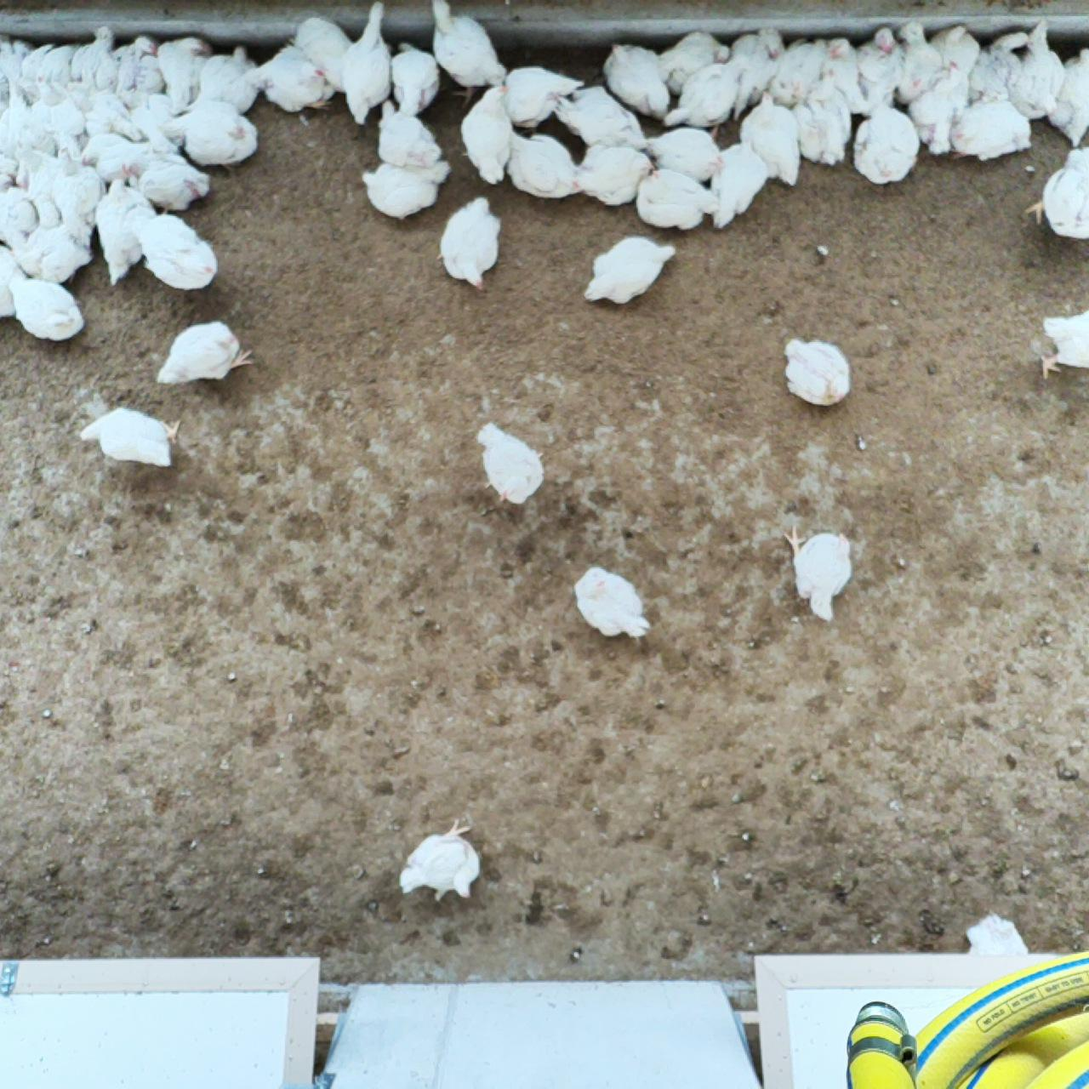chicken: (426, 0, 509, 107), (395, 816, 484, 905), (782, 521, 854, 625), (161, 96, 260, 171), (94, 175, 158, 288), (551, 82, 650, 155), (78, 403, 184, 471), (736, 89, 808, 189), (583, 235, 679, 309), (155, 318, 256, 388), (663, 55, 746, 140), (373, 98, 452, 187), (340, 1, 395, 126), (436, 193, 503, 295), (245, 43, 338, 115), (569, 565, 654, 643), (475, 420, 547, 508), (1023, 147, 1089, 243), (599, 39, 674, 123), (793, 67, 855, 168), (570, 141, 658, 211), (358, 157, 453, 221), (705, 135, 769, 228), (504, 59, 587, 130), (1010, 19, 1066, 124), (49, 146, 106, 248), (460, 83, 515, 188), (946, 97, 1034, 162), (854, 101, 922, 185), (635, 165, 720, 232), (7, 274, 87, 344), (731, 26, 788, 124), (5, 224, 96, 285), (503, 131, 583, 200), (781, 335, 852, 408), (292, 14, 357, 93), (656, 28, 731, 96), (68, 80, 145, 143), (29, 75, 87, 157), (853, 26, 904, 118), (155, 36, 215, 114), (643, 126, 725, 183), (767, 35, 831, 108), (970, 29, 1030, 106), (198, 44, 263, 115), (1046, 45, 1089, 148), (385, 38, 441, 117), (135, 156, 212, 213), (893, 20, 942, 103), (1036, 305, 1089, 381), (908, 79, 957, 157), (114, 31, 166, 102), (821, 35, 867, 111), (960, 907, 1029, 956), (129, 91, 180, 153), (69, 25, 118, 89), (0, 185, 41, 254), (14, 144, 60, 202), (930, 23, 982, 72), (933, 57, 972, 117), (0, 245, 30, 320), (1, 81, 30, 158), (36, 42, 79, 92), (78, 133, 133, 168), (17, 43, 53, 93), (0, 35, 26, 86), (0, 151, 17, 190)
